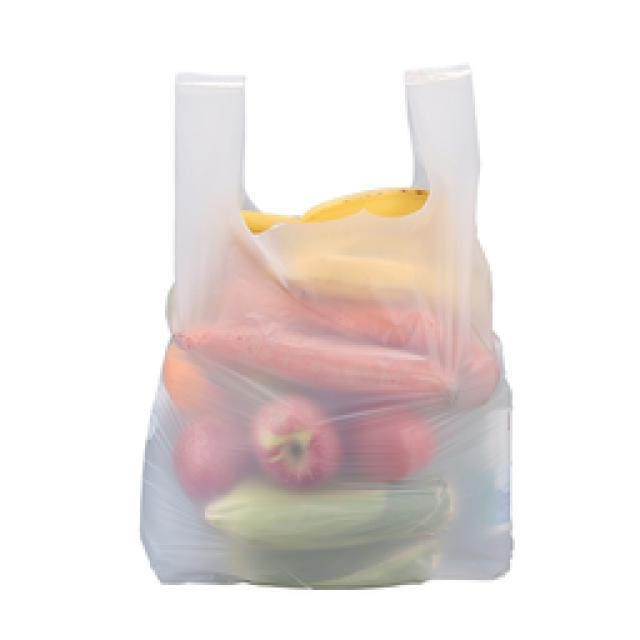plastic: (140, 68, 510, 585)
